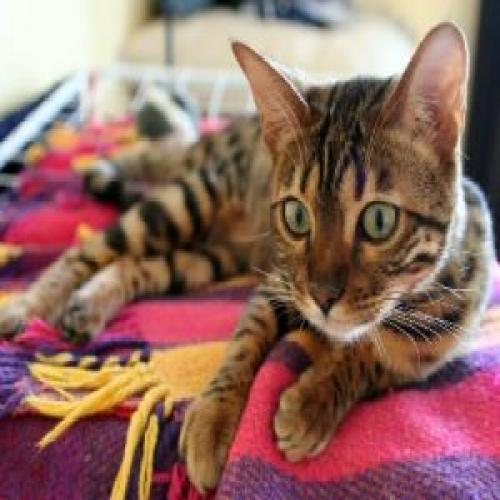bengal: (222, 23, 479, 352)
